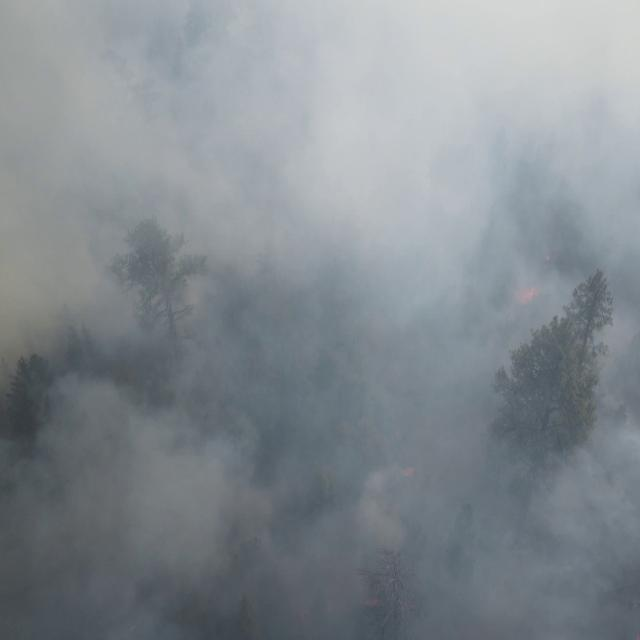fire: (515, 286, 539, 309), (398, 464, 414, 481), (364, 597, 379, 608)
smoke: (0, 0, 640, 640)
